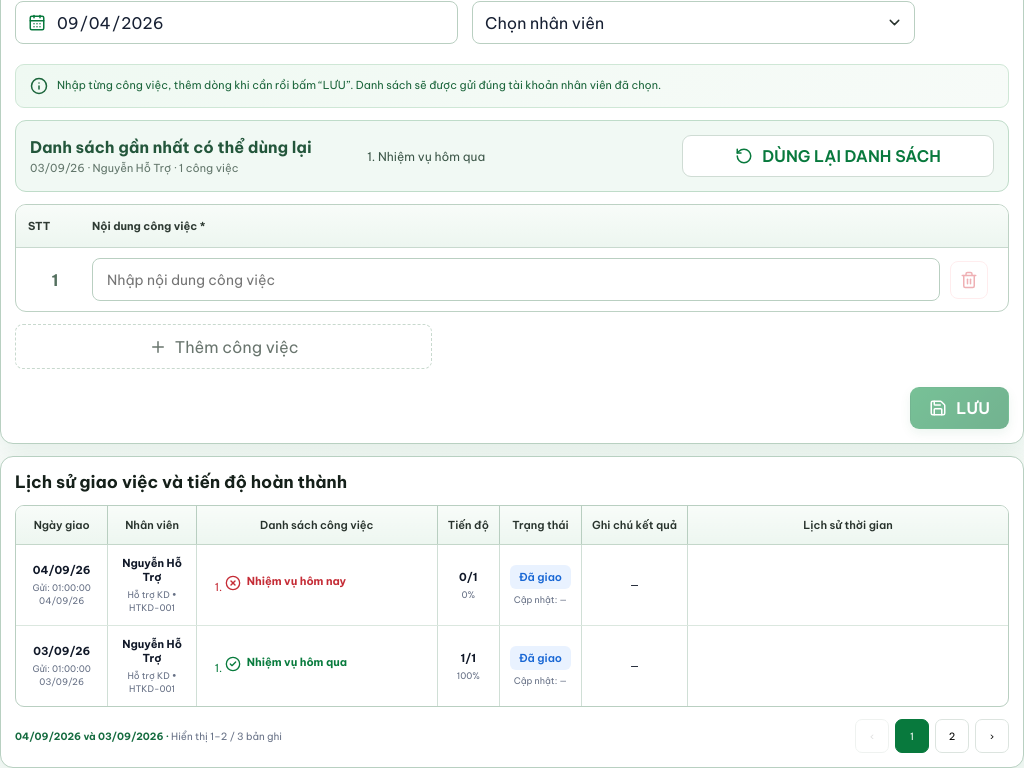
Test: support work screens › shows today and yesterday on the first assignment-history page and older dates on numbered pages
(page scrolled)
Check: the text "Nhiệm vụ hôm nay" is shown, box left=247, top=574, right=346, bottom=590
Check: the text "Nhiệm vụ hôm qua" is shown, box left=247, top=655, right=347, bottom=671
Click the button named "Trang 2" at (952, 736), box left=935, top=719, right=969, bottom=753
(page scrolled)
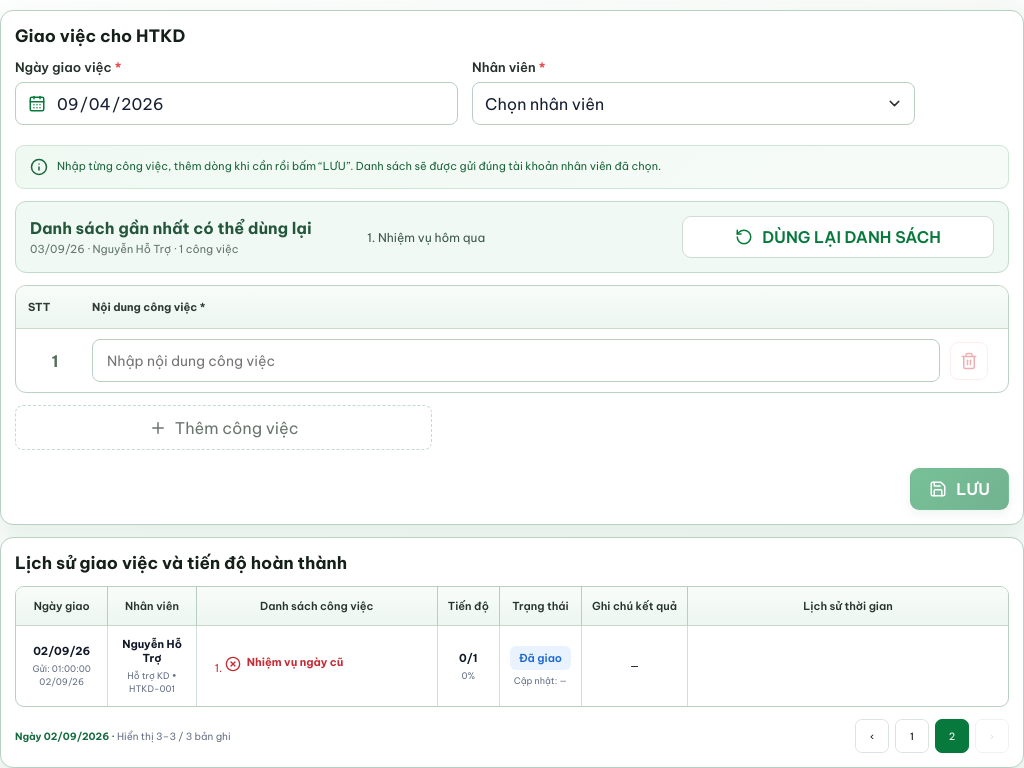
Check: the text "Nhiệm vụ ngày cũ" is shown, box left=247, top=655, right=343, bottom=671
Check: the text "Nhiệm vụ hôm nay" is gone
